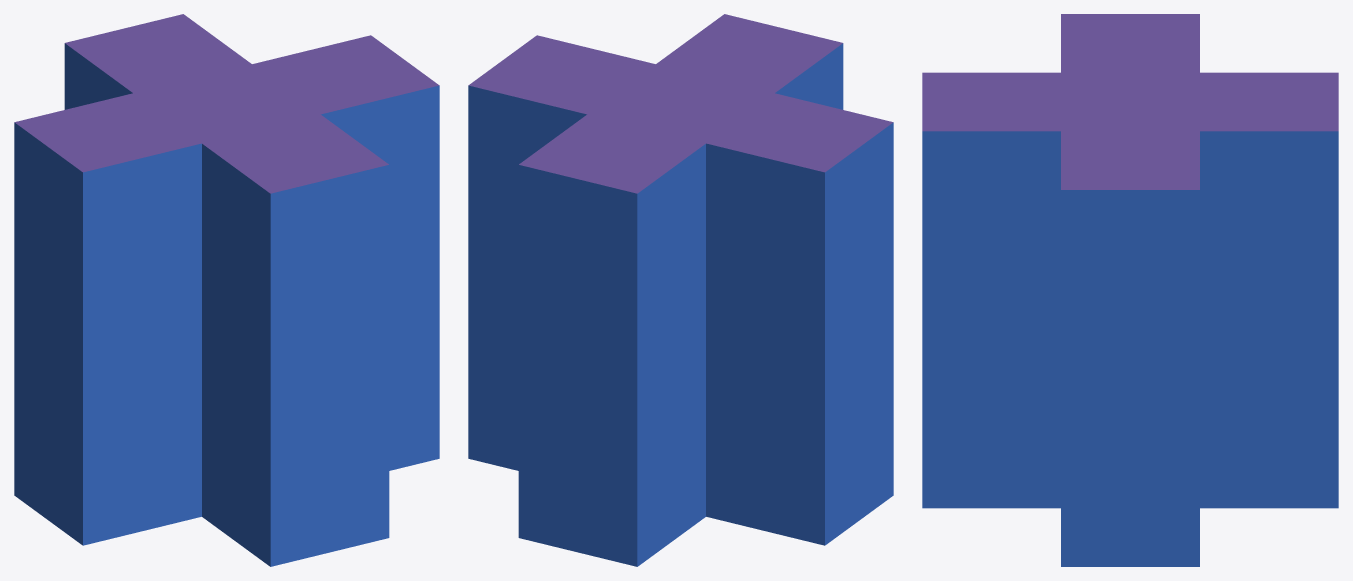
The model's file is walls_type_5.glb.
The picture shows the model from 3 angles, left to right: view 1: azimuth 30°, elevation 25°; view 2: azimuth 150°, elevation 25°; view 3: azimuth 270°, elevation 25°; orthographic projection.
Parts seen in each view (by area): view 1: Type_5; view 2: Type_5; view 3: Type_5.
Part boxes in pixels (bbox=[...]): Type_5: bbox=[14, 14, 439, 566]; Type_5: bbox=[468, 14, 893, 566]; Type_5: bbox=[922, 14, 1338, 566].
Bounding box in the file's own units: 1 × 1 × 1.
